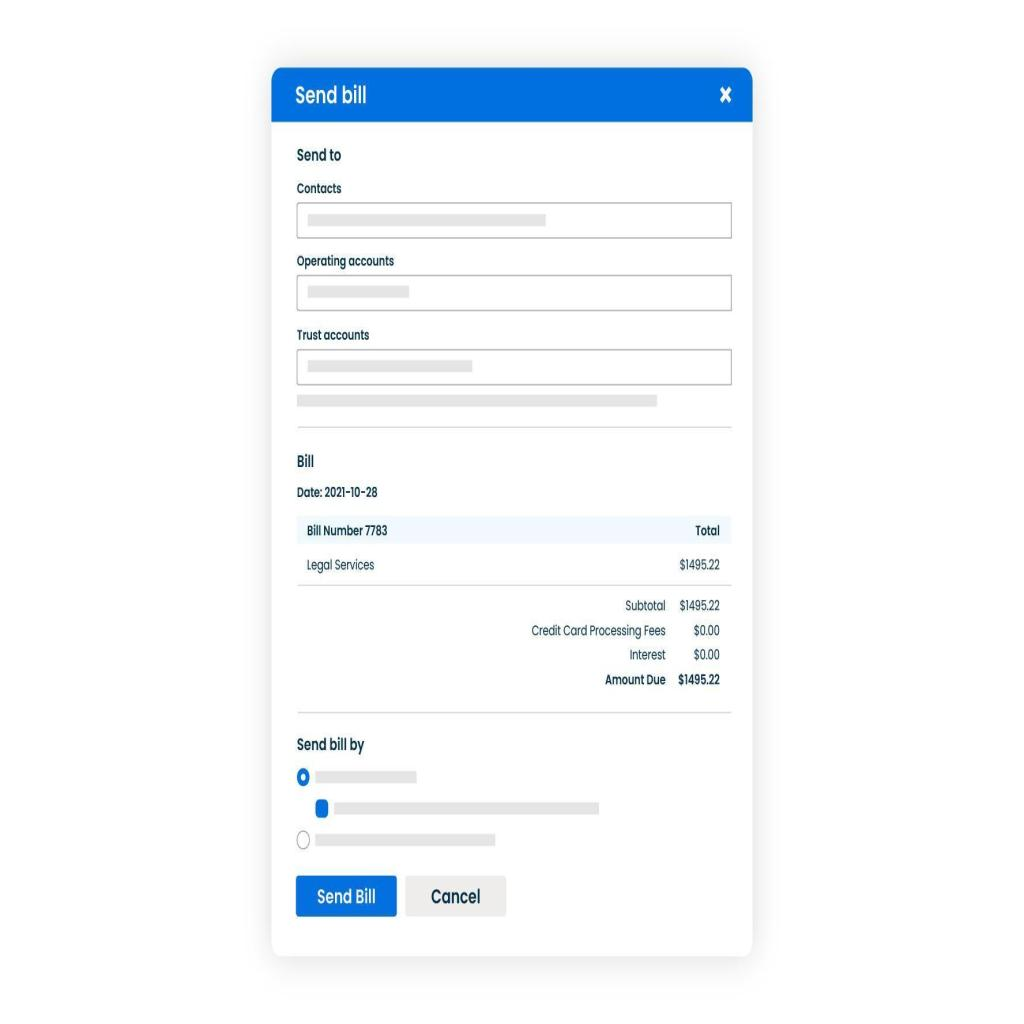button: (296, 871, 398, 921), (403, 871, 509, 919)
checkbox: (313, 798, 330, 818)
label: (528, 621, 722, 639), (604, 670, 722, 690), (291, 80, 371, 106), (624, 597, 721, 616), (295, 734, 367, 756), (300, 554, 378, 574), (296, 253, 394, 268), (305, 521, 389, 538), (628, 648, 722, 662), (296, 326, 369, 344), (294, 485, 377, 499), (676, 554, 718, 576), (298, 145, 340, 161), (687, 522, 724, 538), (297, 185, 344, 196), (294, 452, 318, 469)
radio: (294, 766, 312, 787), (295, 832, 309, 850)
